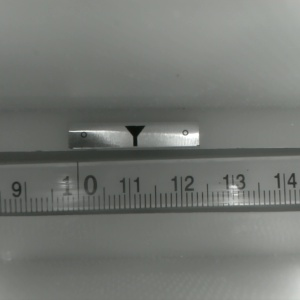0: (83, 175, 97, 194)
1: (63, 176, 73, 195), (170, 176, 177, 192), (133, 177, 140, 192), (223, 174, 230, 189), (274, 172, 280, 189), (119, 177, 125, 193)
2: (184, 175, 193, 191)
3: (235, 174, 245, 189)
4: (286, 172, 297, 188)
9: (11, 180, 21, 197)
finger: (122, 125, 145, 147)
